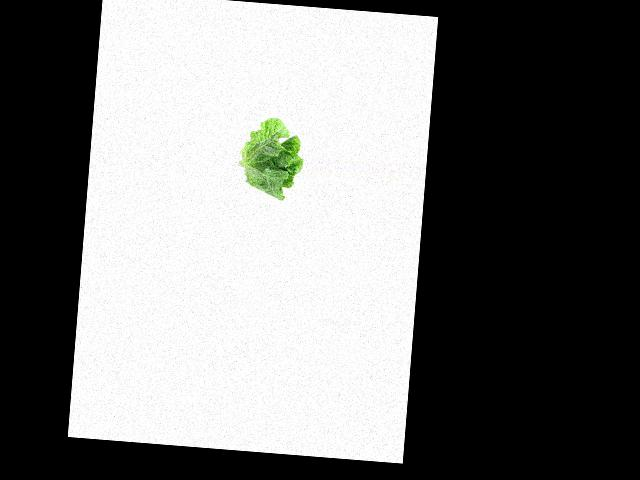lettuce: (239, 116, 306, 203)
